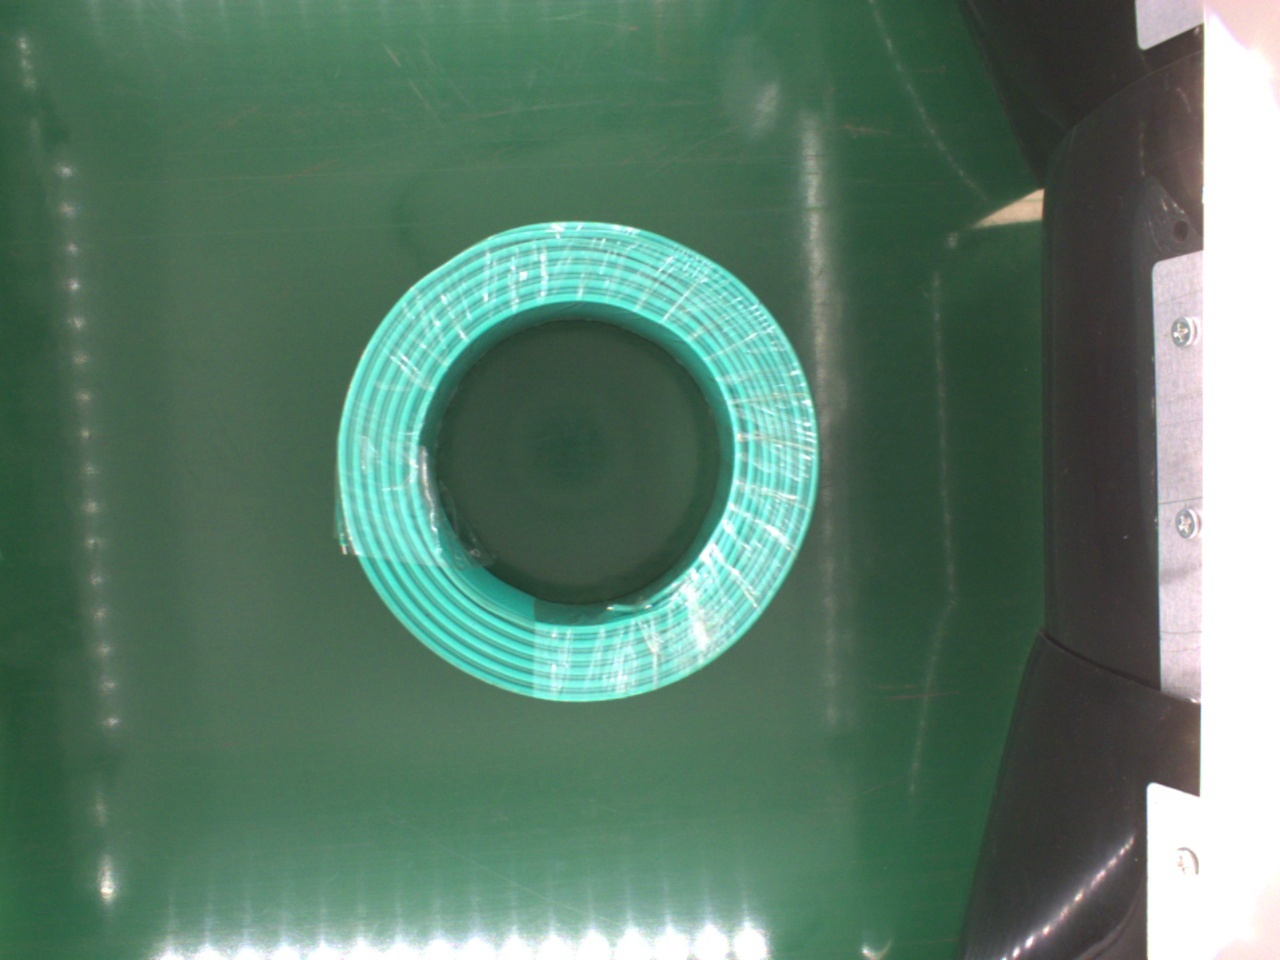green: (333, 223, 819, 709)
